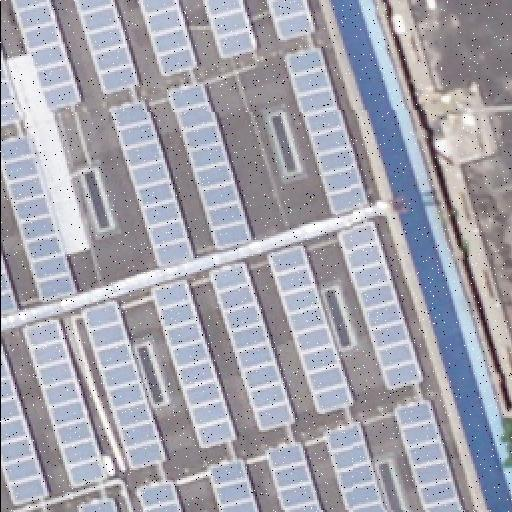solar-panel: (106, 101, 198, 267), (150, 278, 238, 450), (266, 244, 354, 416), (284, 48, 372, 220), (80, 302, 168, 470), (338, 224, 426, 392), (165, 83, 251, 253), (205, 259, 291, 429), (24, 318, 108, 490), (1, 136, 79, 304), (0, 342, 48, 510), (392, 401, 464, 511), (13, 0, 83, 112), (74, 0, 142, 96), (322, 422, 386, 510), (137, 1, 199, 79), (267, 442, 325, 510), (205, 1, 259, 63), (204, 457, 260, 511), (0, 41, 28, 127), (264, 0, 316, 44), (140, 481, 184, 511), (0, 255, 16, 313), (78, 498, 118, 510)
